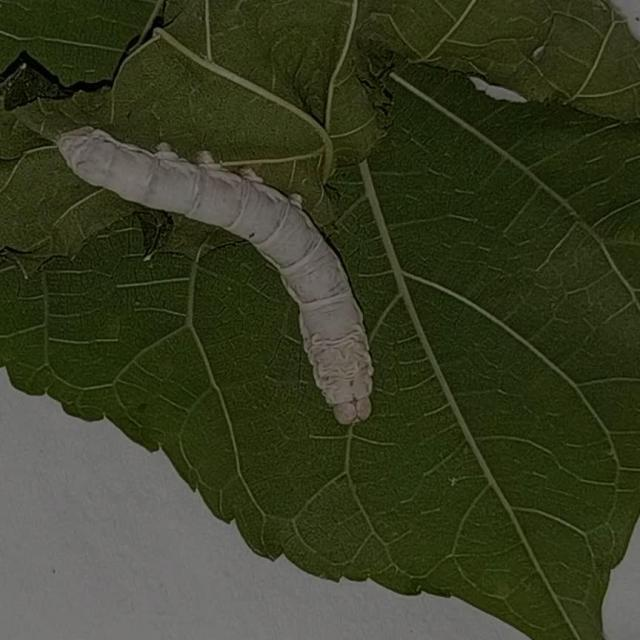Healthy: (44, 94, 428, 509)
